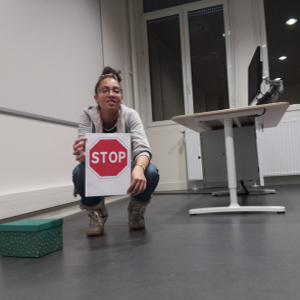stop: (89, 138, 129, 178)
